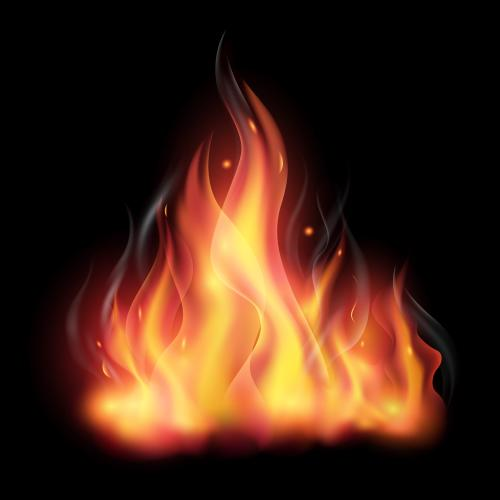fire: (67, 145, 451, 449)
